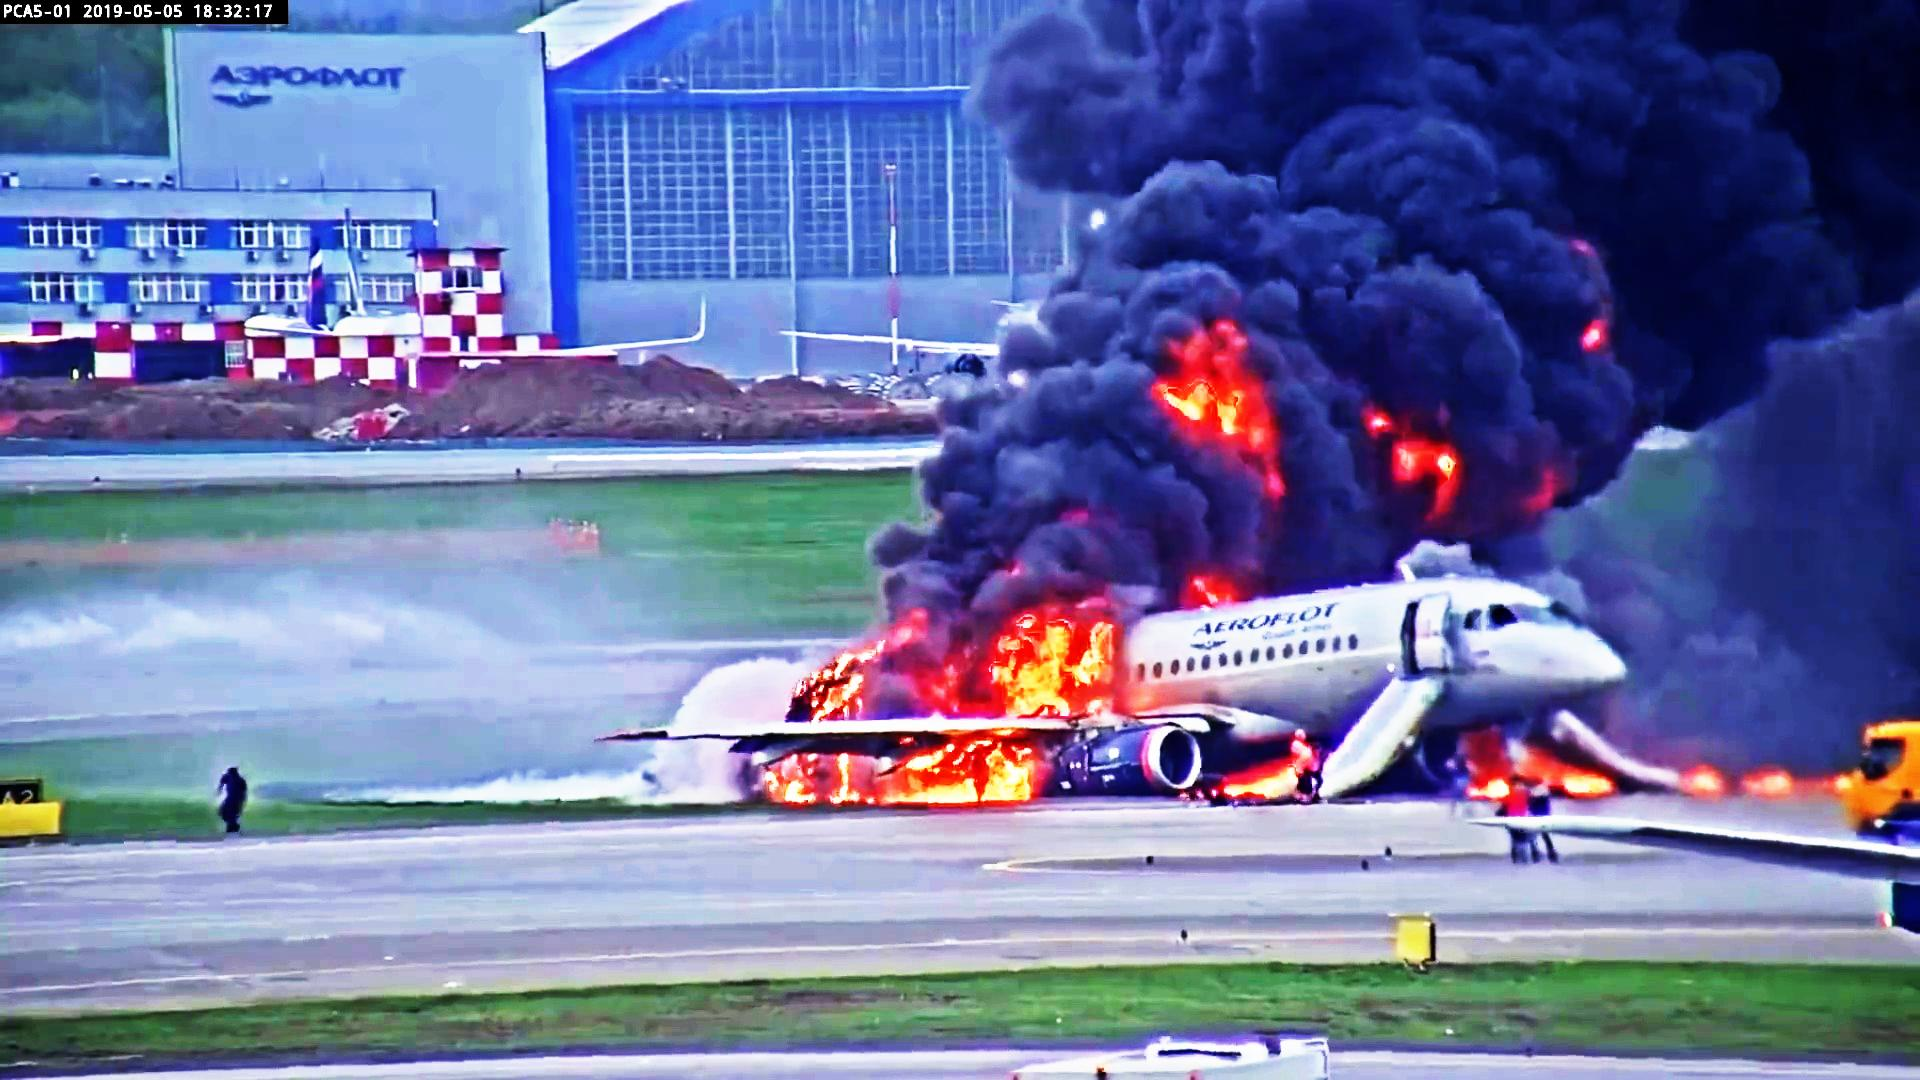fire: (996, 622, 1109, 724), (898, 733, 1031, 800), (1171, 357, 1251, 439)
smoke: (1295, 36, 1896, 367)
